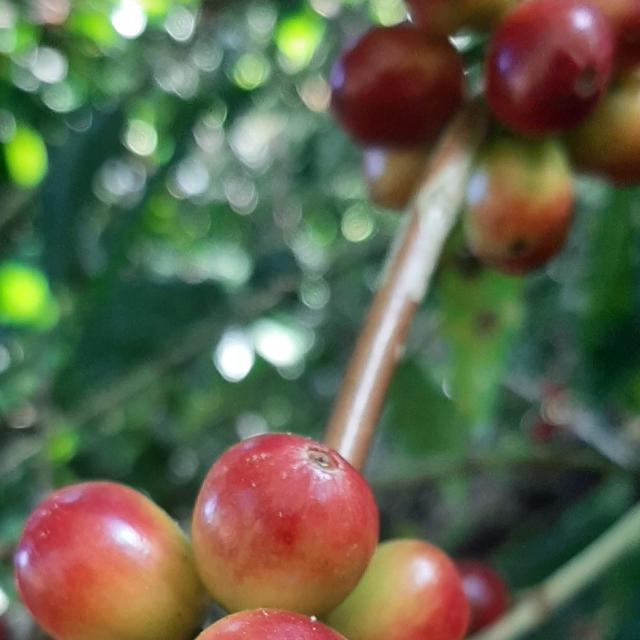red: (486, 0, 615, 136), (331, 24, 464, 147)
yellow: (191, 434, 379, 617), (13, 483, 207, 640), (465, 136, 575, 274), (327, 541, 470, 640), (567, 67, 640, 183), (196, 610, 346, 640)
